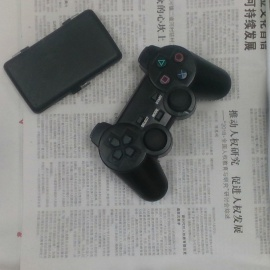remote: (90, 46, 230, 200)
